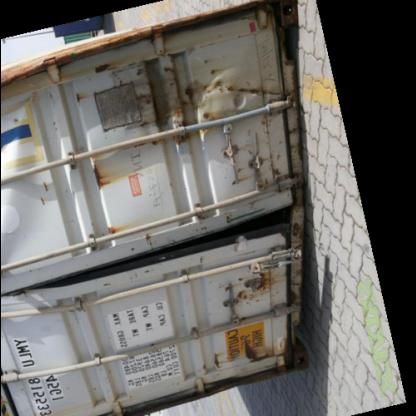Damage: (125, 200, 305, 247), (171, 56, 282, 129), (16, 256, 154, 308), (228, 258, 282, 300), (198, 344, 280, 369), (80, 154, 118, 191), (79, 54, 119, 80), (66, 87, 90, 111)
